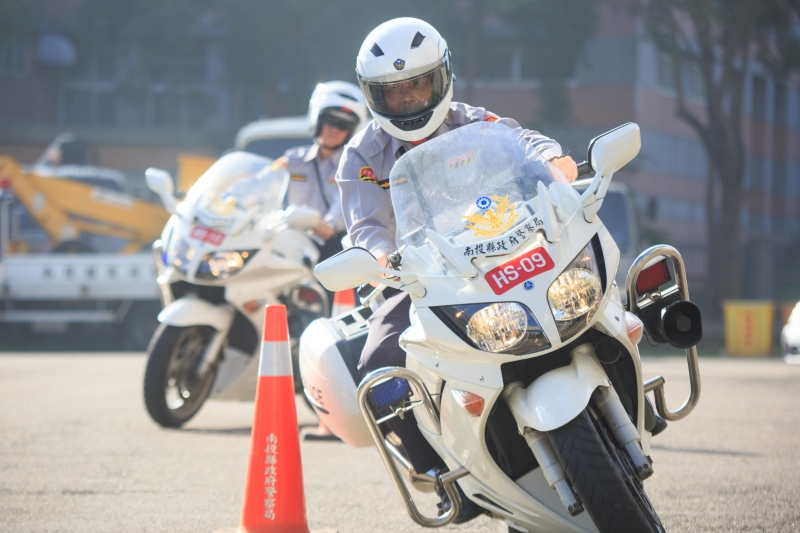helmet: (352, 17, 467, 132), (305, 84, 369, 132)
